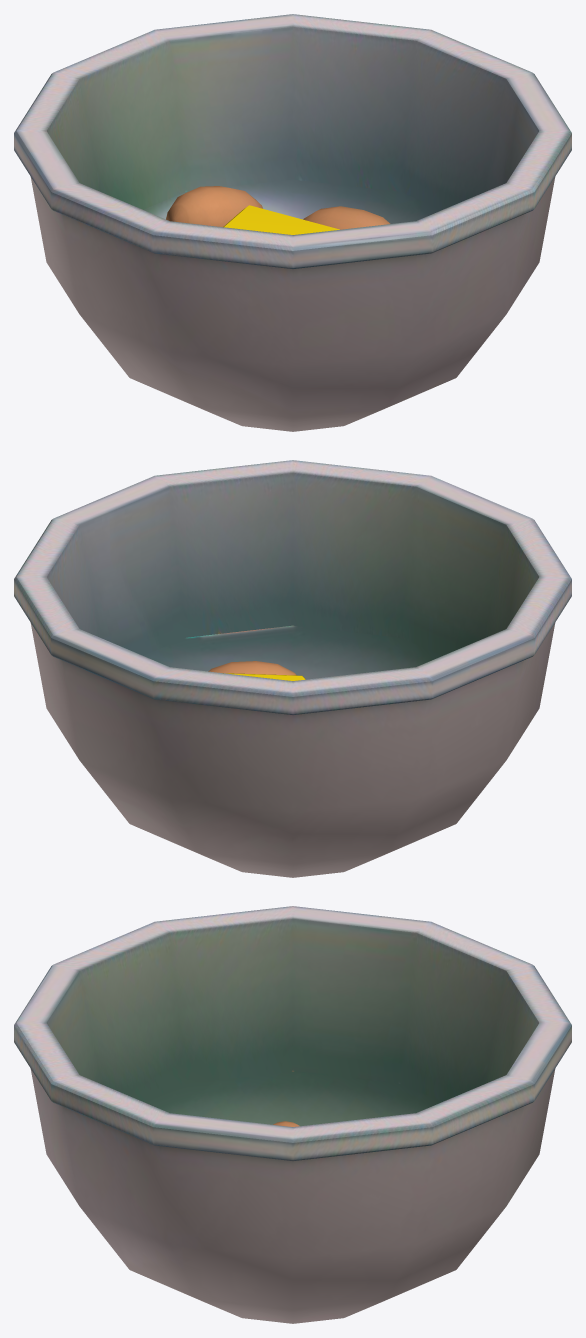
File: mixingBowlButterEggs.glb
The picture shows the model from 3 angles, top to bottom: view 1: azimuth 30°, elevation 25°; view 2: azimuth 150°, elevation 25°; view 3: azimuth 270°, elevation 25°; orthographic projection.
Visible parts, largest first — view 1: MixingBowl, Egg06, Butter, Egg05.001; view 2: MixingBowl, Egg04.001; view 3: MixingBowl.
Boxes of the visible parts, x1,y1,x2,y2 form: MixingBowl: (14, 14, 571, 431); Egg06: (166, 186, 262, 226); Butter: (223, 205, 339, 234); Egg05.001: (303, 206, 390, 229); MixingBowl: (14, 460, 571, 877); Egg04.001: (208, 661, 296, 675); MixingBowl: (14, 906, 571, 1323).
Size of the model in its own units: 0.3931 by 0.2142 by 0.3931.
3 materials, 3 textured.
